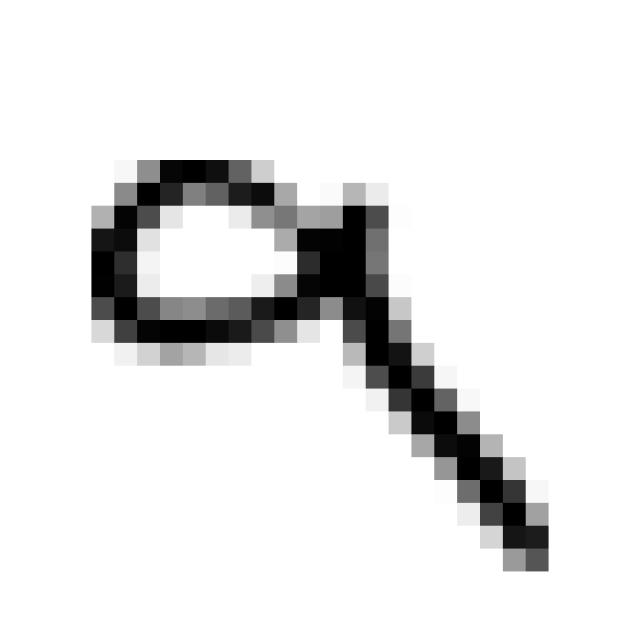9 -nine-: (71, 135, 568, 586)
